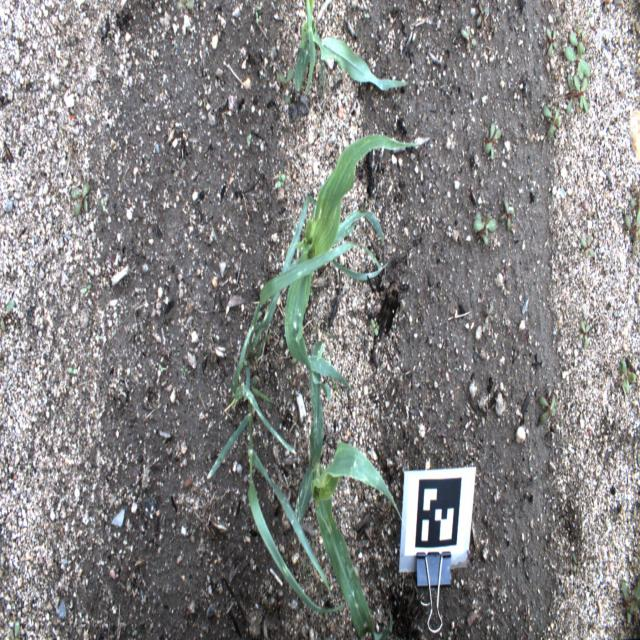crop: (282, 134, 419, 402), (291, 337, 409, 639), (294, 0, 408, 99)
weed: (207, 374, 344, 613), (230, 195, 382, 398), (564, 40, 592, 80), (566, 72, 589, 116), (620, 576, 640, 625), (473, 211, 497, 244), (69, 182, 91, 217), (483, 123, 502, 161), (542, 104, 562, 140), (624, 214, 640, 254), (618, 358, 636, 393), (538, 392, 557, 424), (278, 66, 294, 103), (498, 197, 515, 230), (0, 297, 16, 332), (277, 217, 305, 237), (569, 30, 586, 61), (579, 233, 596, 258), (578, 318, 591, 349), (313, 322, 337, 338), (460, 27, 476, 50), (476, 2, 490, 28), (546, 27, 558, 57), (630, 192, 640, 226), (171, 159, 187, 180), (176, 0, 195, 15), (263, 596, 275, 618), (484, 302, 495, 324), (570, 551, 580, 574), (284, 538, 293, 562), (580, 30, 588, 55), (610, 377, 621, 395), (276, 172, 287, 189), (600, 0, 612, 15), (561, 0, 569, 22), (272, 592, 282, 608), (371, 318, 378, 337), (573, 24, 583, 37), (79, 284, 91, 294), (586, 5, 595, 18), (66, 366, 78, 375), (100, 196, 106, 212), (55, 222, 61, 238), (548, 99, 555, 111), (181, 364, 187, 377), (158, 363, 164, 374), (248, 132, 252, 148), (255, 12, 259, 22), (364, 12, 370, 18), (255, 5, 260, 11)
